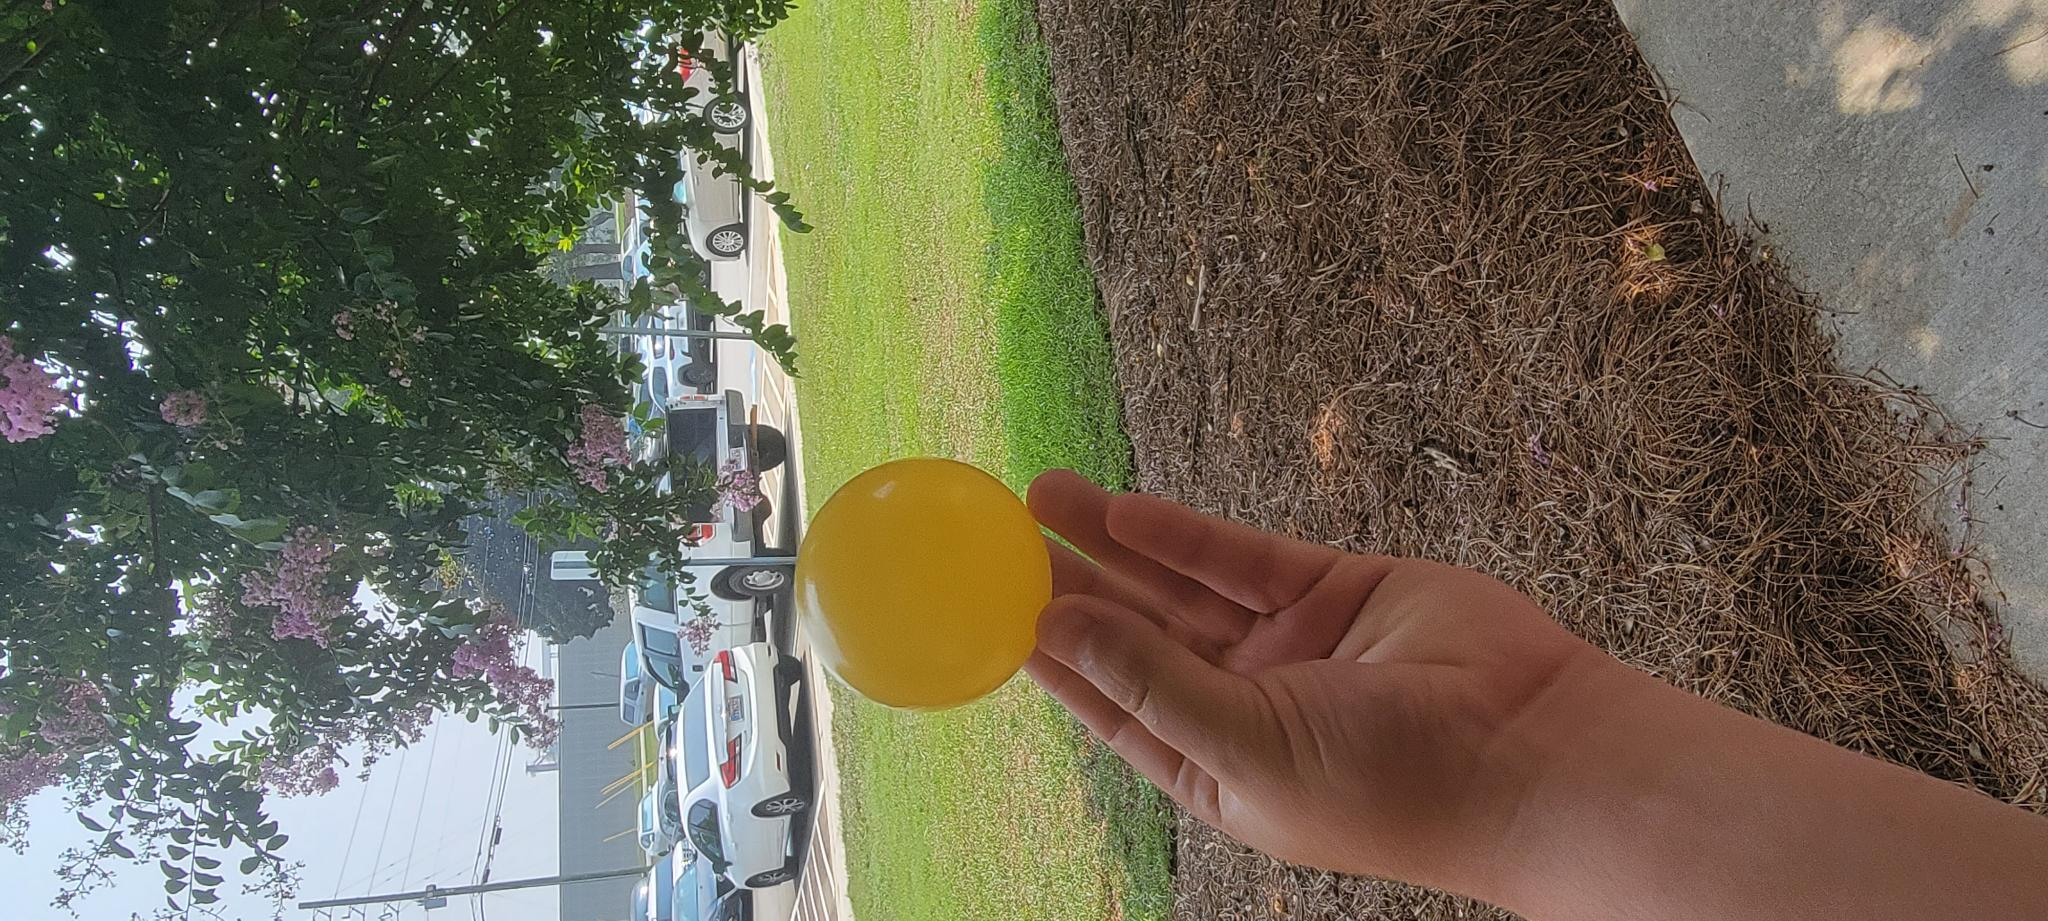Yellow-Ball: (208, 797, 464, 921)
